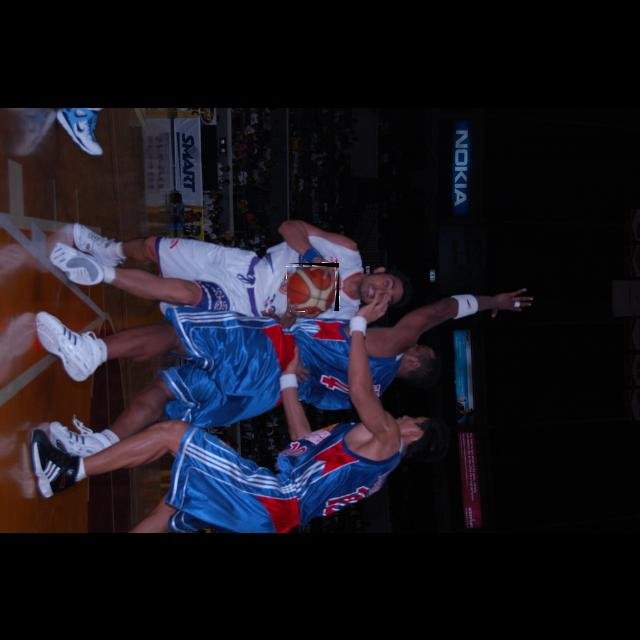Football: (287, 263, 339, 311)
